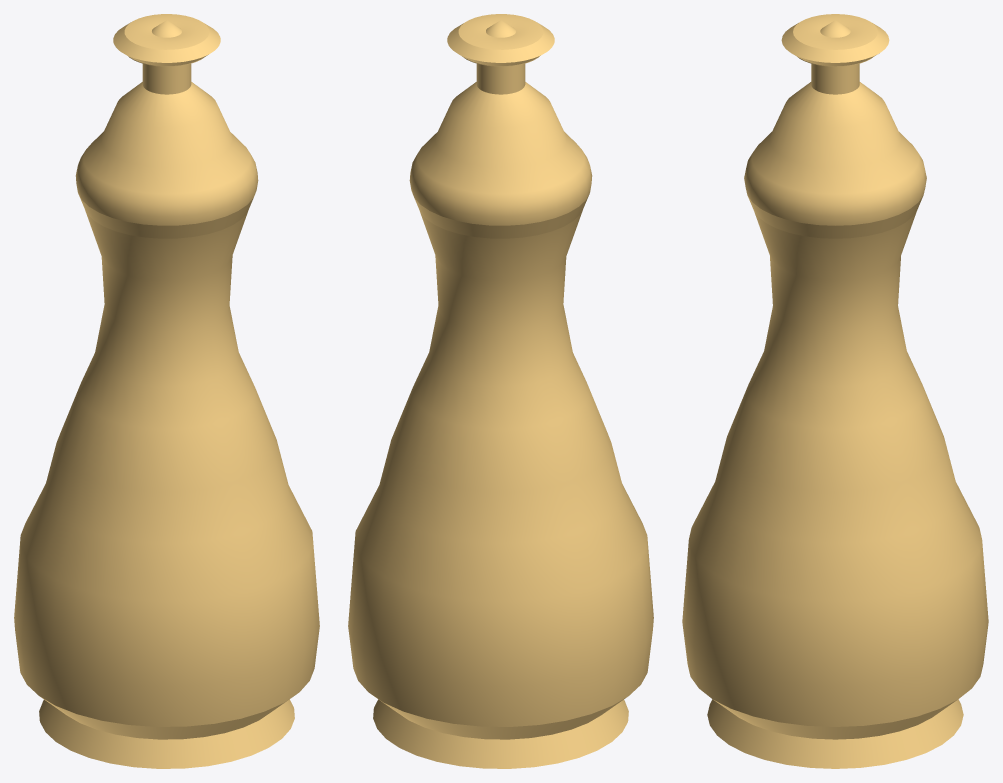
File: bottle50.glb
3 renders of one model, left to right at view 1: azimuth 30°, elevation 25°; view 2: azimuth 150°, elevation 25°; view 3: azimuth 270°, elevation 25°, orthographic.
Visible parts, largest first — view 1: Bottle50; view 2: Bottle50; view 3: Bottle50.
Boxes of the visible parts, left/top/right/bottom form: Bottle50: left=14, top=14, right=319, bottom=768; Bottle50: left=348, top=14, right=653, bottom=768; Bottle50: left=682, top=14, right=988, bottom=768.
Size of the model in its own units: 1.71 by 4.28 by 1.71.
